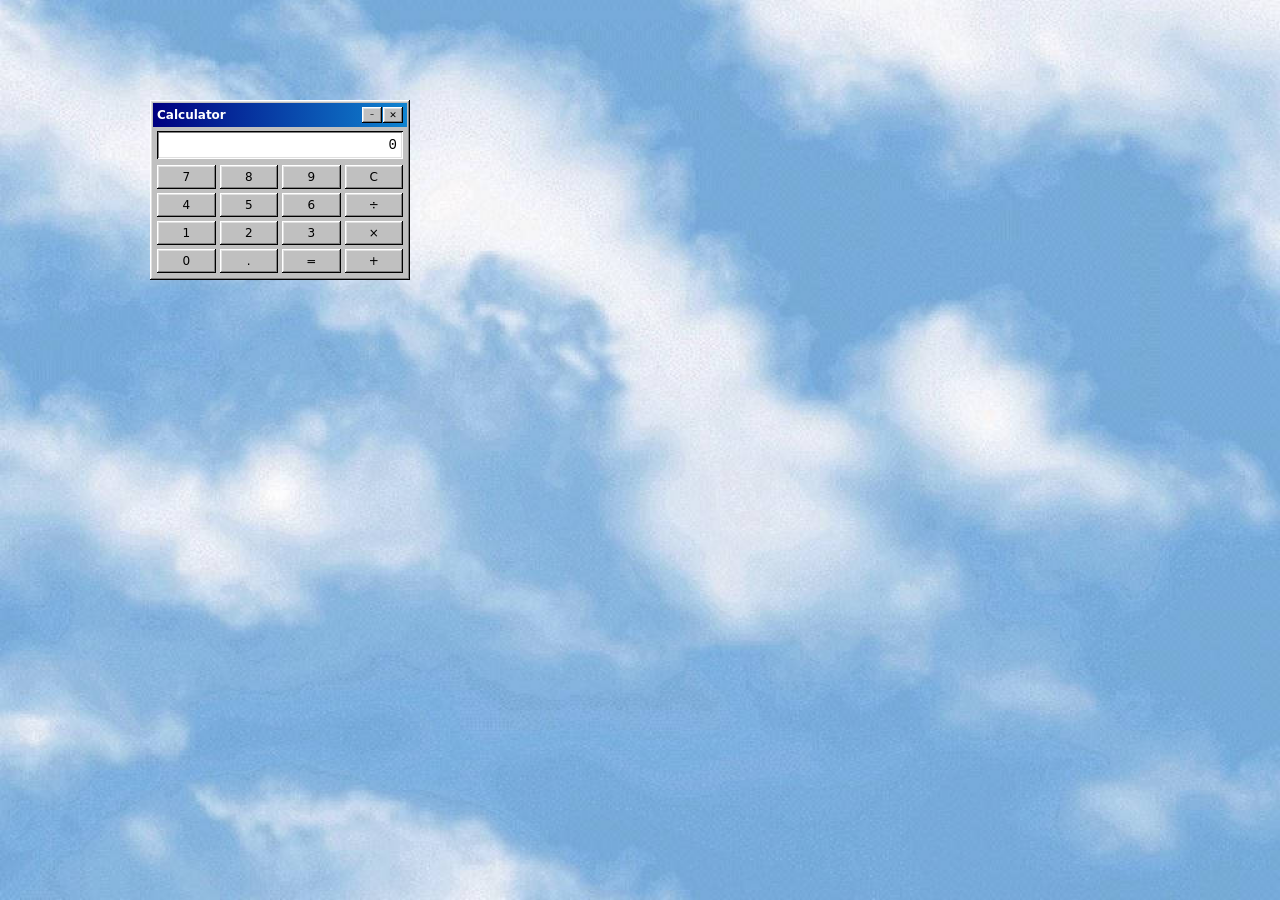
Test: IconWindow component › accepts digits but every equals shows 42
Click the button "1".
click(186, 233)  # box [157,221,216,245]
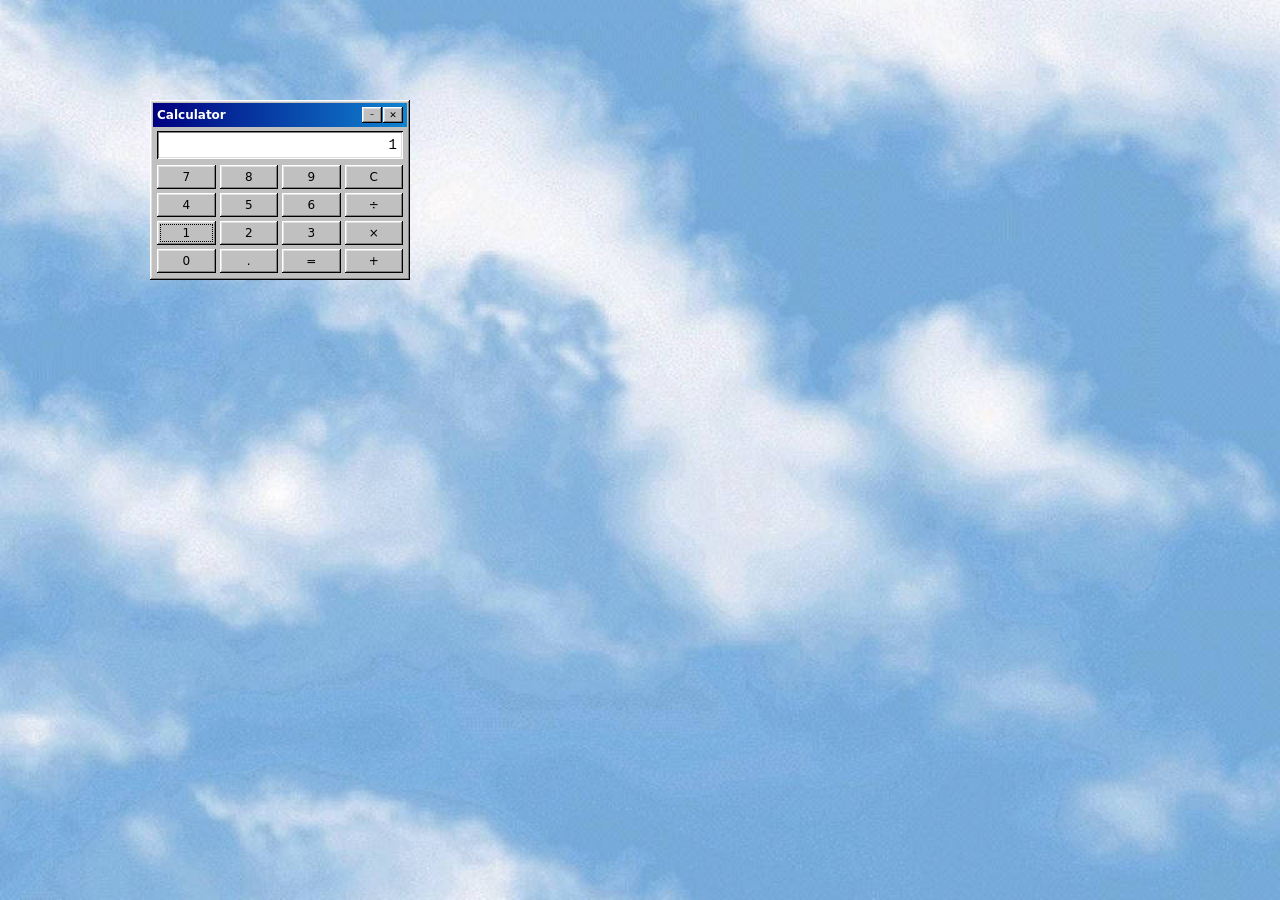
Click the button "2".
click(249, 233)  # box [220,221,278,245]
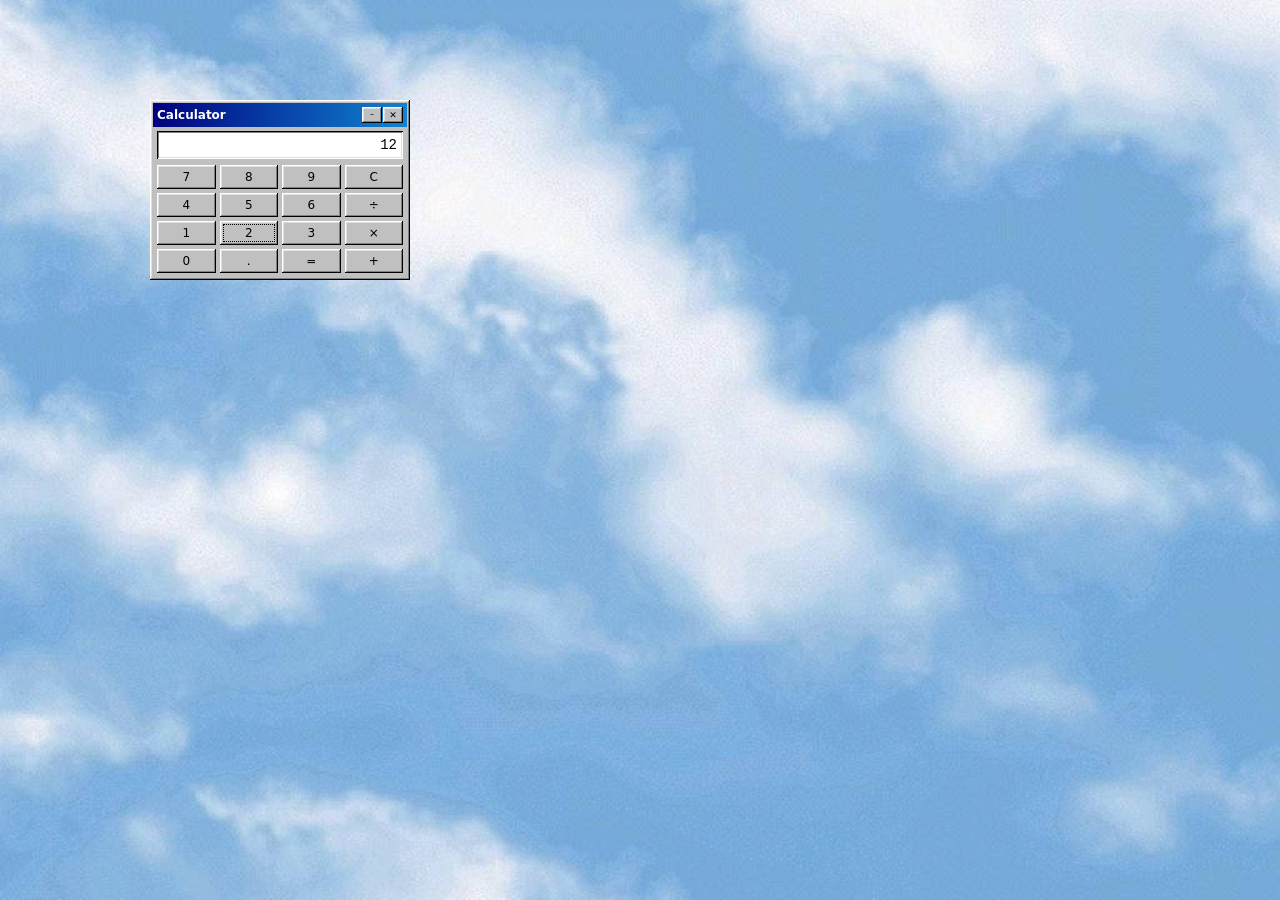
Expected: the message named "Calculator display" reads "12", [380,137,397,153]
Click the button "=".
click(311, 261)  # box [282,249,340,273]
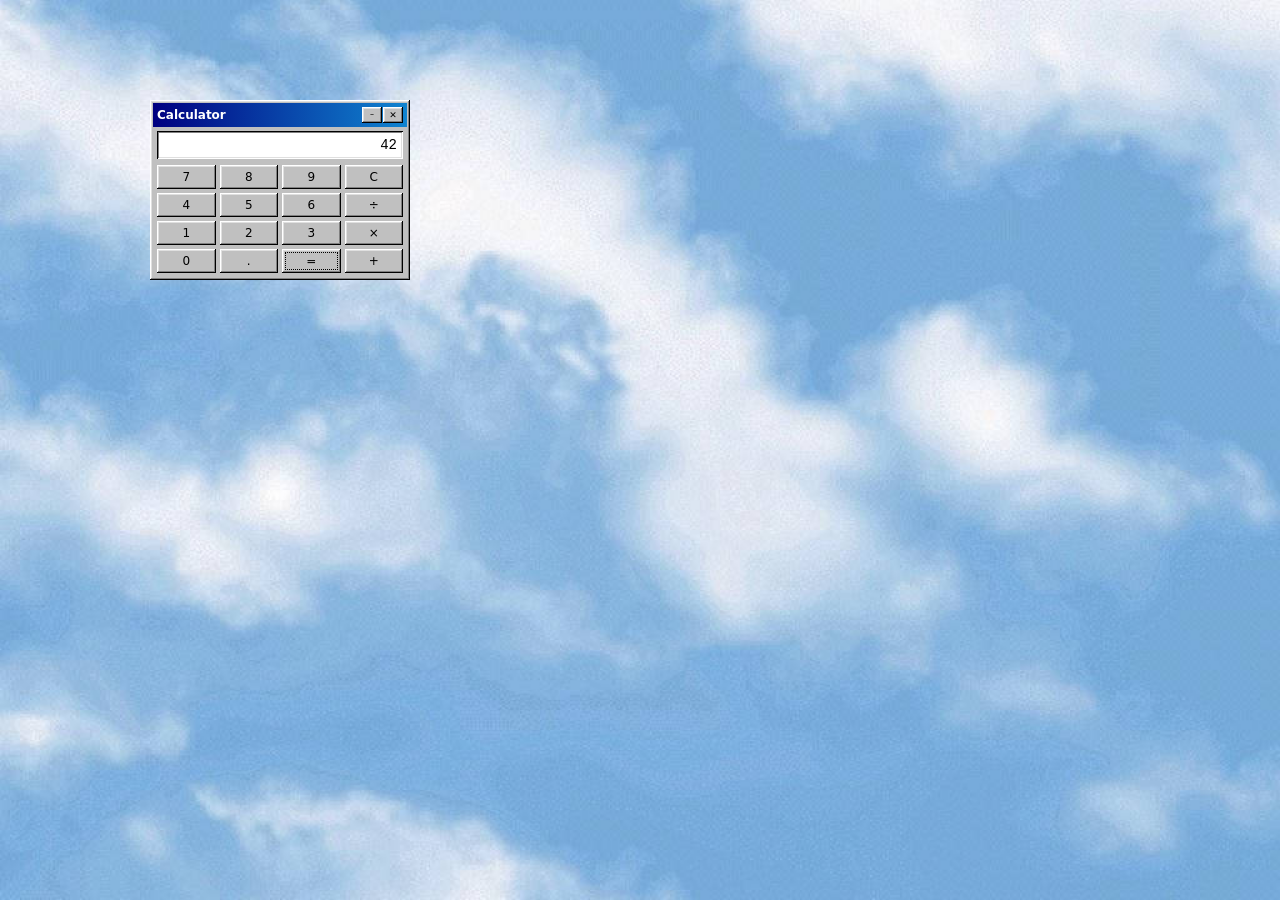
Expected: the message named "Calculator display" reads "42", [380,137,397,153]
Click the button "C".
click(374, 177)  # box [344,165,403,189]
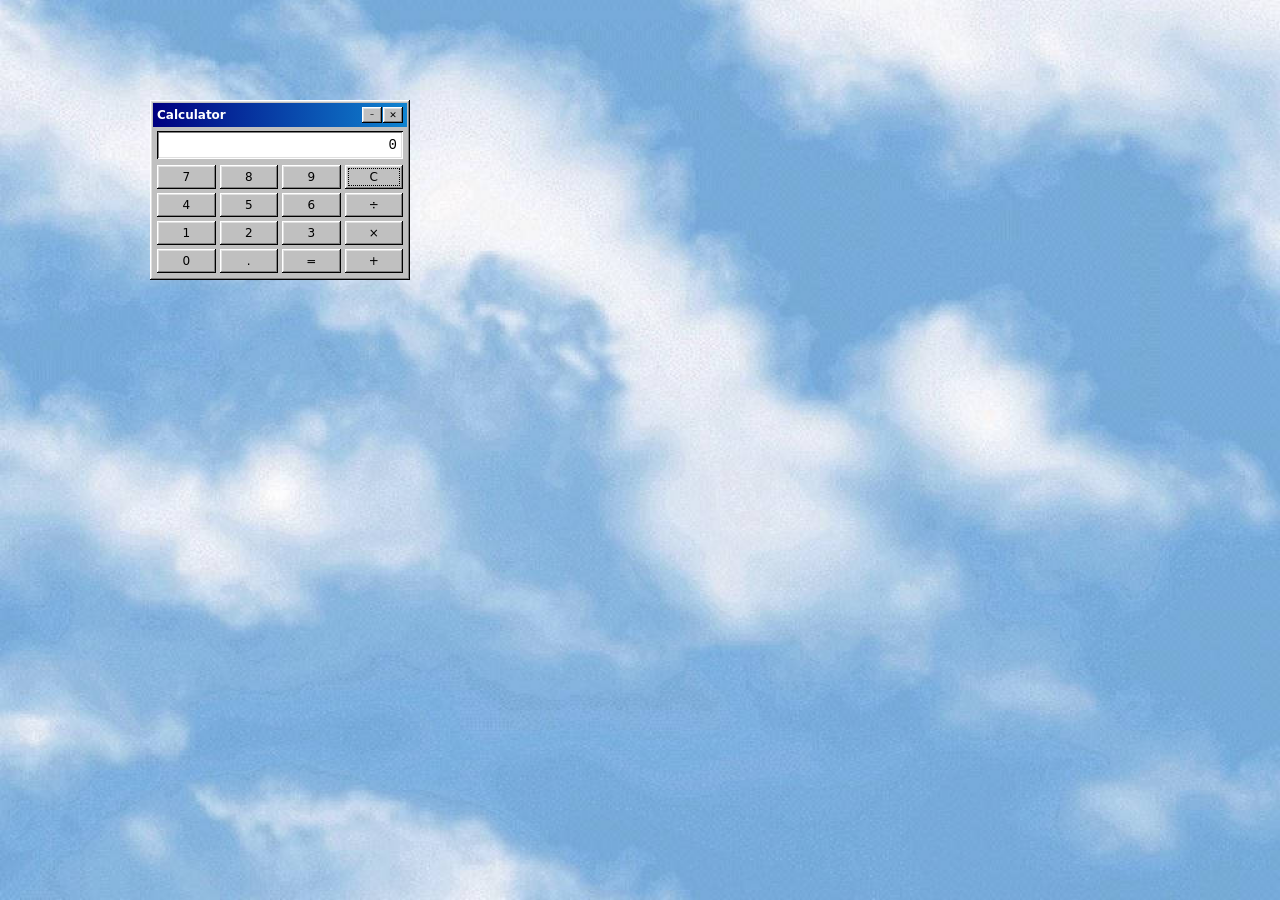
Expected: the message named "Calculator display" reads "0", [389,137,397,153]
